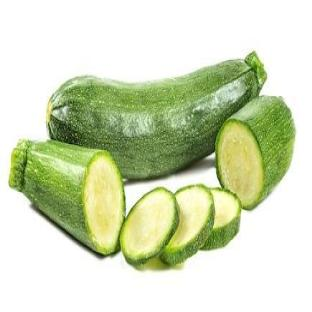Zucchini: (46, 52, 266, 178), (9, 141, 124, 254), (216, 96, 295, 208), (120, 188, 179, 265), (161, 185, 214, 265), (202, 189, 240, 249)
